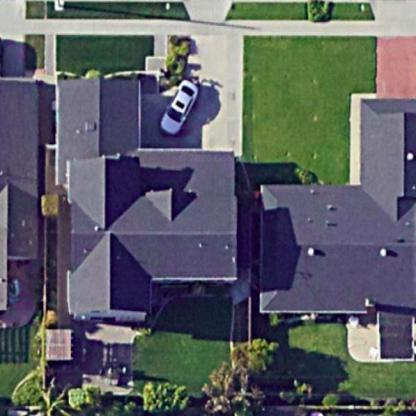car: (157, 70, 197, 138)
